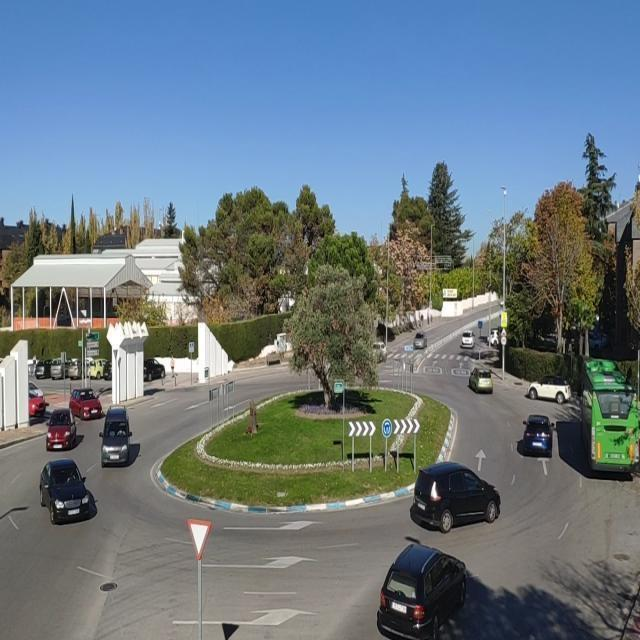Bus: (576, 358, 640, 469)
Car: (376, 542, 468, 640), (403, 457, 508, 527), (38, 460, 96, 524), (97, 405, 131, 464), (520, 415, 554, 455), (526, 374, 572, 403), (46, 409, 78, 450), (69, 388, 103, 420), (468, 367, 493, 394), (49, 357, 76, 380), (28, 382, 46, 416), (143, 358, 166, 382), (35, 358, 59, 379), (413, 332, 427, 349), (461, 331, 475, 348)
